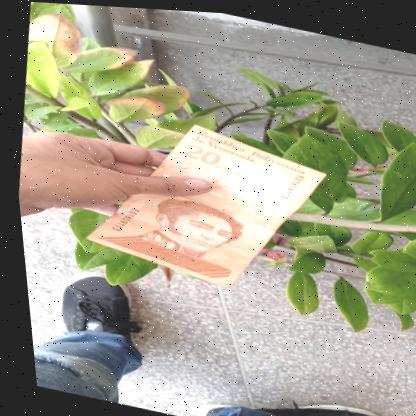twenty-front-vef: (66, 98, 337, 306)
